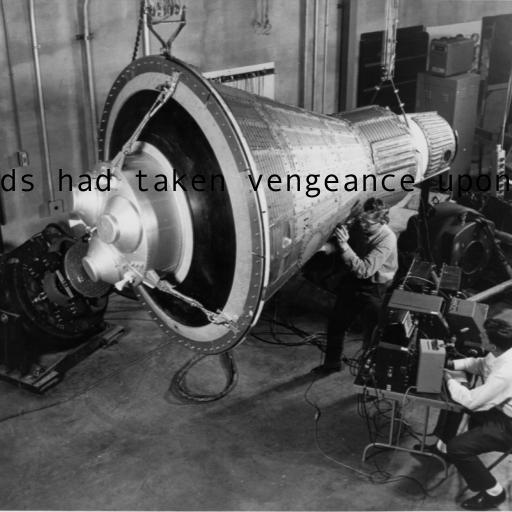Andale Mono: (0, 168, 512, 198)
